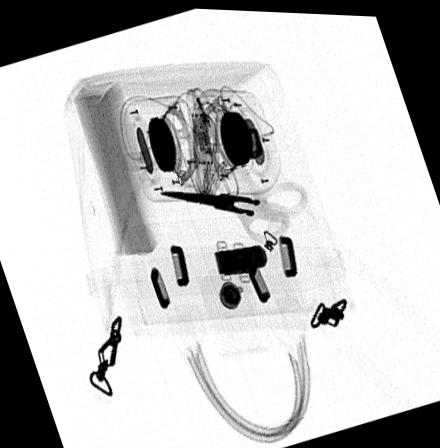Scissors: (158, 179, 308, 242)
